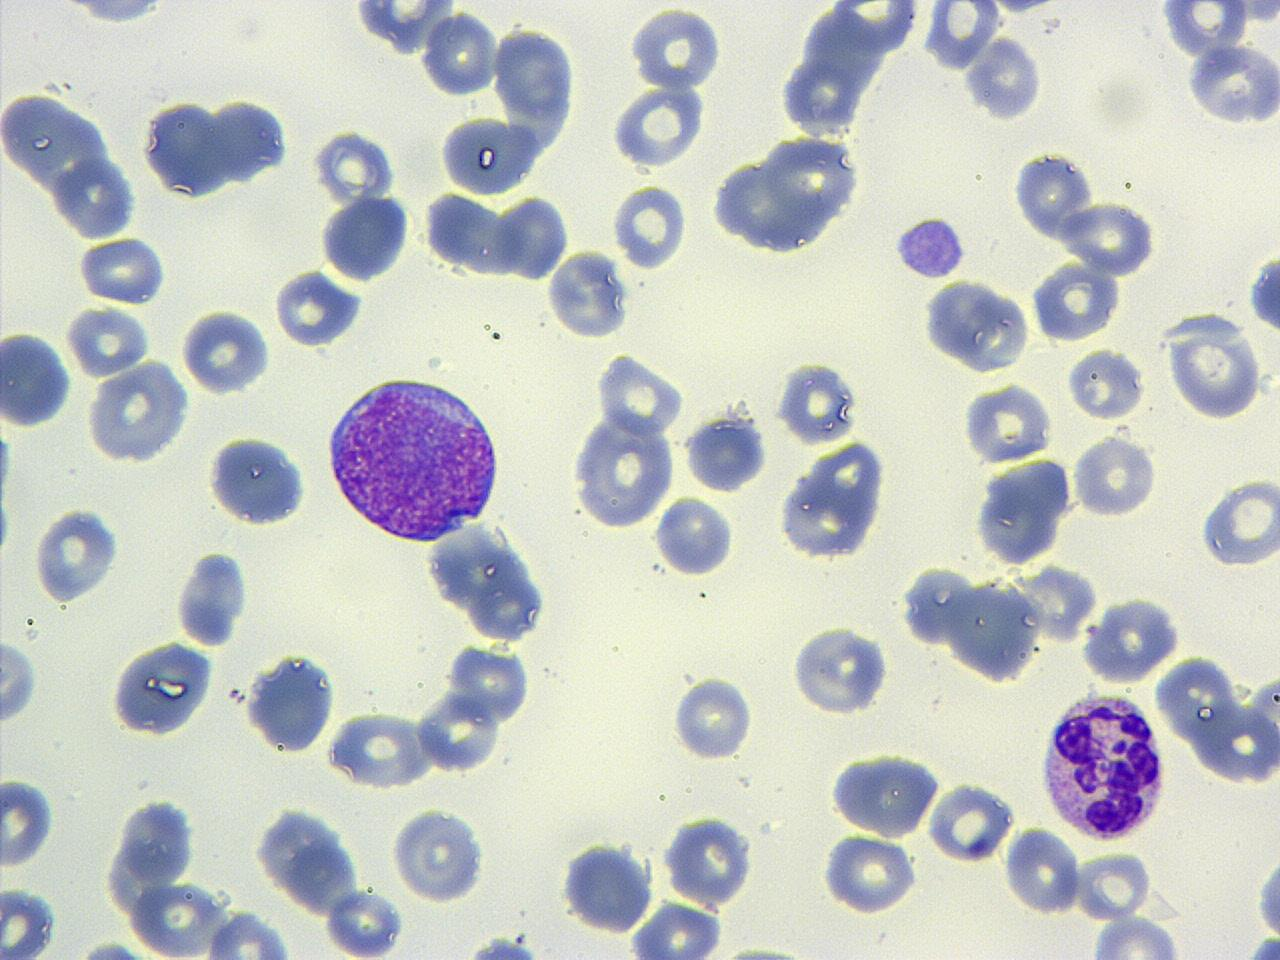Platelets: (178, 303, 272, 396), (545, 245, 632, 342), (1010, 147, 1094, 242), (174, 546, 252, 648), (1064, 200, 1160, 276), (76, 235, 173, 307), (684, 412, 769, 494), (0, 774, 57, 871), (892, 213, 970, 282), (0, 883, 58, 960), (1247, 249, 1279, 338), (466, 933, 538, 960), (79, 939, 143, 960), (0, 432, 15, 500), (991, 0, 1056, 15), (0, 496, 15, 558), (1246, 936, 1280, 958), (514, 930, 530, 944)
RBC: (1, 87, 166, 392), (83, 358, 194, 466), (108, 636, 216, 741), (1163, 314, 1267, 422), (946, 576, 1045, 684), (388, 804, 489, 904), (788, 621, 891, 719), (626, 3, 730, 99), (1079, 594, 1183, 687), (324, 707, 436, 792), (660, 810, 756, 908), (607, 79, 708, 170), (31, 504, 121, 604), (180, 303, 274, 397), (594, 347, 686, 441), (434, 112, 534, 196), (818, 832, 918, 916), (1071, 428, 1161, 521), (545, 245, 631, 342), (959, 379, 1054, 466), (1026, 256, 1122, 342), (1012, 146, 1096, 244), (55, 152, 144, 242), (128, 881, 228, 958), (270, 267, 364, 348), (774, 358, 860, 446), (1063, 198, 1159, 276), (926, 779, 1015, 863), (670, 673, 754, 762), (652, 494, 736, 580), (494, 192, 572, 284), (610, 182, 690, 271), (1003, 824, 1079, 916), (311, 125, 400, 203), (422, 8, 498, 99), (65, 301, 152, 380), (78, 233, 169, 306), (899, 562, 973, 648), (1154, 0, 1260, 59), (1065, 345, 1145, 422), (922, 0, 1002, 75), (1073, 848, 1153, 920), (626, 902, 726, 958), (324, 887, 404, 957), (0, 775, 56, 870), (202, 910, 296, 958), (1087, 912, 1183, 958), (0, 885, 57, 960), (1, 633, 44, 730)
WBC: (241, 0, 951, 319), (797, 0, 1279, 448), (0, 0, 578, 329), (332, 0, 607, 196), (321, 371, 506, 546), (1, 83, 142, 283), (771, 0, 927, 140), (706, 131, 868, 265), (1038, 689, 1170, 845), (137, 90, 296, 203), (423, 514, 556, 642), (776, 438, 897, 567), (569, 406, 681, 532), (252, 802, 368, 920), (84, 354, 195, 467), (1164, 308, 1270, 422), (974, 454, 1079, 566), (918, 277, 1033, 377), (108, 637, 217, 741), (386, 803, 491, 907), (205, 430, 313, 530), (243, 648, 342, 757), (950, 573, 1045, 684), (1177, 27, 1280, 129), (827, 748, 940, 839), (788, 619, 892, 716), (1077, 593, 1183, 688), (558, 836, 658, 936), (608, 78, 709, 173), (662, 809, 757, 908), (32, 505, 123, 605), (318, 191, 414, 284), (628, 4, 727, 94), (112, 794, 201, 890), (1028, 257, 1124, 342), (821, 834, 920, 916), (269, 266, 367, 348), (1197, 474, 1279, 572), (961, 380, 1054, 466), (546, 246, 630, 341), (0, 326, 75, 432), (175, 546, 249, 650), (651, 493, 737, 581), (964, 31, 1044, 124), (126, 888, 230, 958), (683, 410, 767, 496), (1153, 0, 1263, 60), (1066, 342, 1146, 424), (626, 903, 728, 959), (892, 212, 972, 280), (37, 0, 182, 31), (0, 632, 42, 728), (1253, 837, 1280, 954), (1248, 246, 1280, 338)
